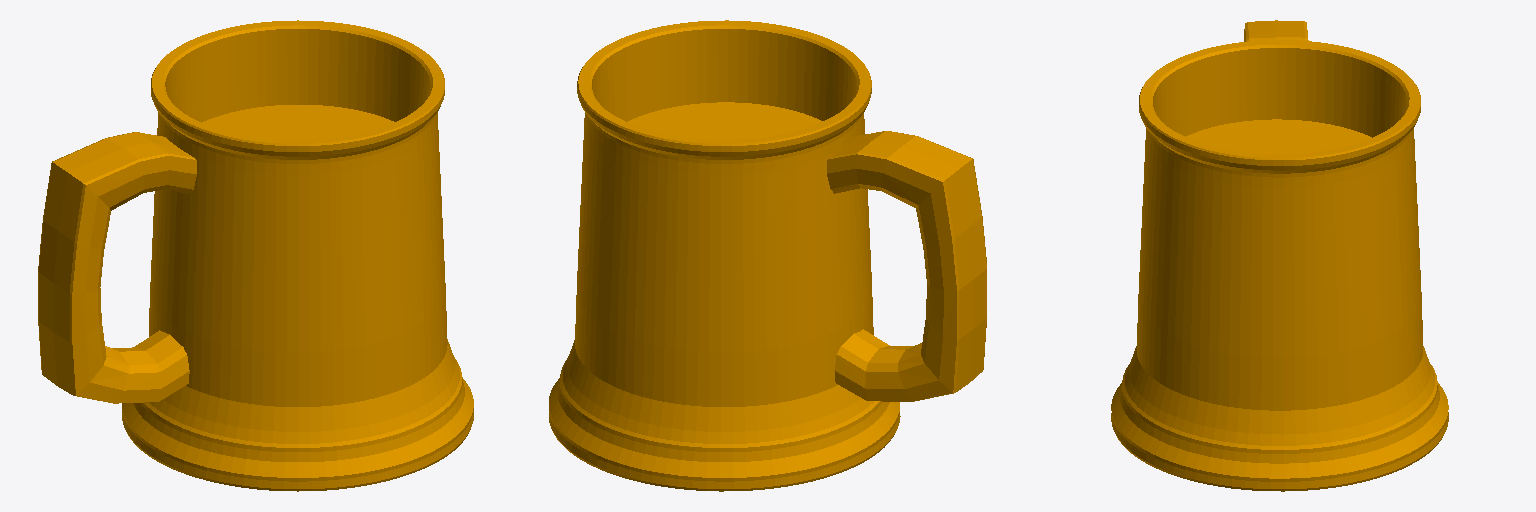
robot.urdf — mug:
<?xml version="1.0"?>
<robot name="mug">
<link name="body">
  <collision>
    <origin rpy="0 0 1.57" xyz="0.975 0 0.22"/>
    <geometry>
      <mesh filename="package://motion_bench_maker/configs/scenes/pregrasp/meshes/mug.stl"/>
    </geometry>
  </collision>
  <visual>
    <origin rpy="0 0 1.57" xyz="0.975 0 0.22"/>
    <geometry>
      <mesh filename="package://motion_bench_maker/configs/scenes/pregrasp/meshes/mug.stl"/>
    </geometry>
  </visual>
  </link>
</robot>

--- Render facts (derived) ---
3 views of the same robot in one strip: view 1: azimuth 30°, elevation 25°; view 2: azimuth 150°, elevation 25°; view 3: azimuth 270°, elevation 25° (orthographic).
Robot: mug — 1 links, 0 joints (none); root link body; default pose: every joint at zero.
Visible links, largest first — view 1: body; view 2: body; view 3: body.
Link boxes in pixels (box(x1,y1,x2,y2)): body: box(38, 20, 473, 491); body: box(549, 20, 986, 491); body: box(1111, 20, 1448, 491).
Bounding box of the posed robot: 0.1871 × 0.1428 × 0.1503 m (x, y, z).
Meshes: 1 distinct files referenced, 1 mesh visuals loaded (1 binary STL).